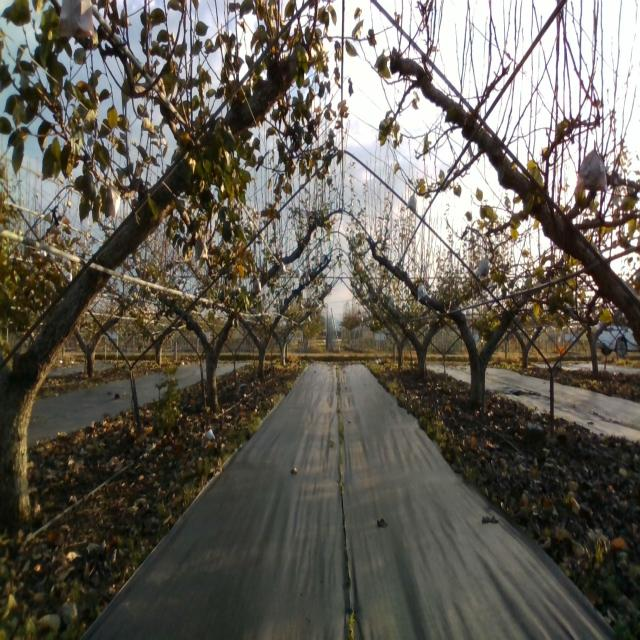pearbags: (578, 141, 608, 194), (104, 184, 120, 218), (407, 190, 418, 216), (475, 256, 489, 276)
